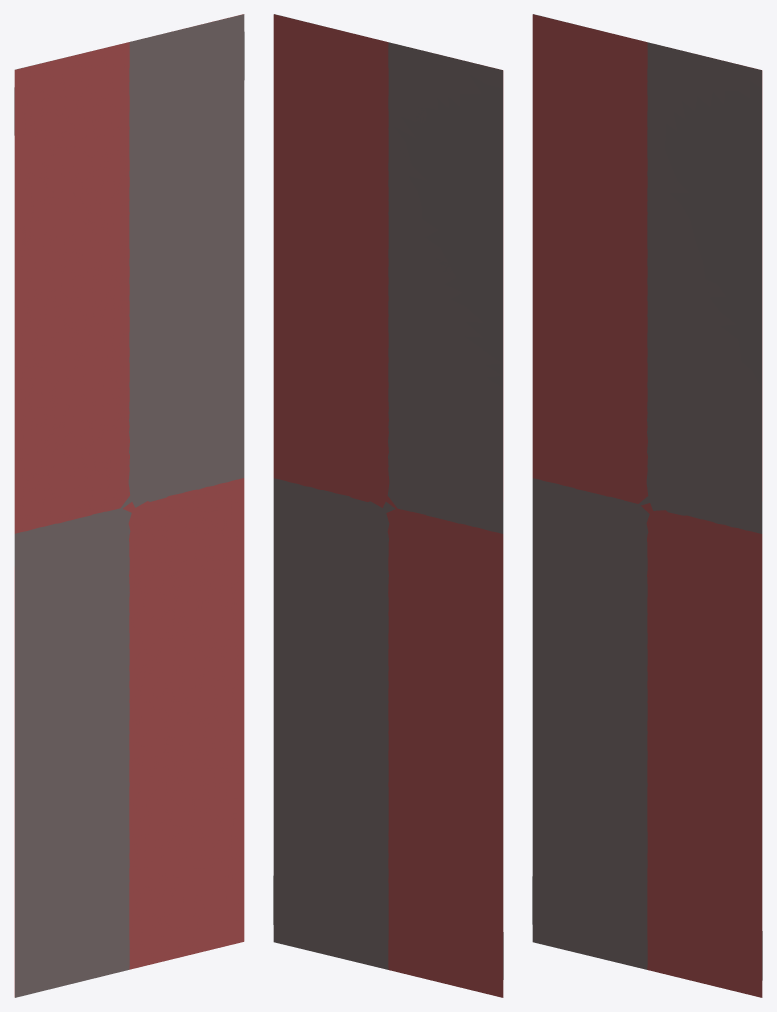
Rendered from warping-rectangle-12.377-3.2024-1060.glb.
The picture shows the model from 3 angles, left to right: view 1: azimuth 30°, elevation 25°; view 2: azimuth 150°, elevation 25°; view 3: azimuth 330°, elevation 25°; orthographic projection.
Parts seen in each view (by area): view 1: undeformed cross-section, cross-section with warping; view 2: undeformed cross-section, cross-section with warping; view 3: undeformed cross-section, cross-section with warping.
Boxes of the visible parts, x1,y1,x2,y2 form: undeformed cross-section: (14, 14, 244, 997); cross-section with warping: (14, 14, 244, 997); undeformed cross-section: (273, 14, 503, 997); cross-section with warping: (273, 14, 503, 979); undeformed cross-section: (532, 14, 762, 997); cross-section with warping: (532, 14, 762, 980).
Size of the model in its own units: 0.0032 by 0.0124 by 1.49e-05.
